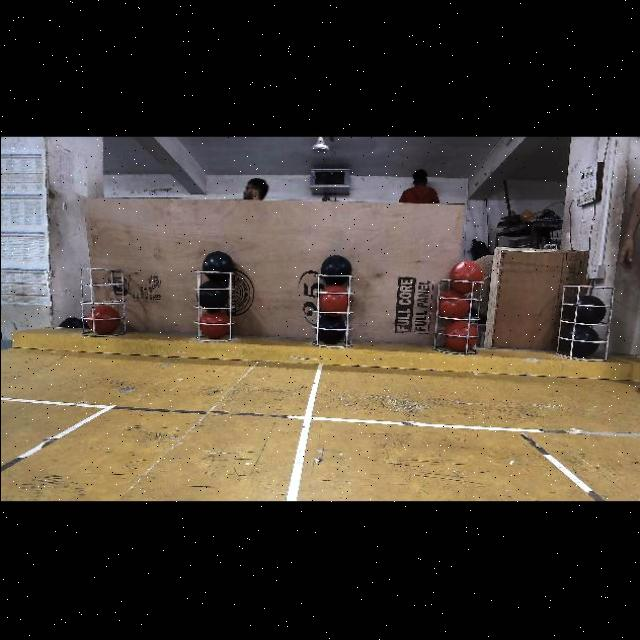P: (562, 324, 596, 356), (202, 250, 234, 281), (318, 255, 352, 284), (316, 314, 346, 344), (574, 296, 606, 324), (196, 282, 228, 310)
R: (447, 259, 484, 293), (444, 318, 476, 348), (436, 290, 468, 318), (82, 306, 116, 332), (317, 286, 348, 312), (200, 309, 228, 336)
S: (430, 274, 486, 352), (556, 275, 610, 355), (187, 266, 241, 342), (75, 262, 128, 332), (311, 270, 354, 346)
